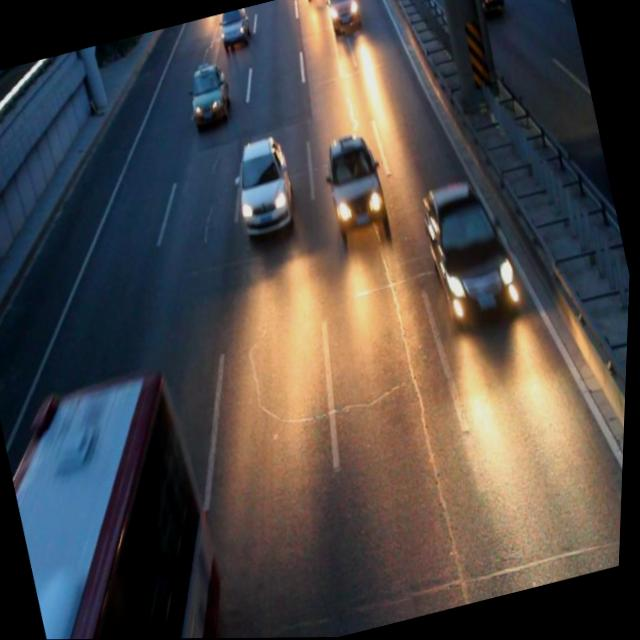car: (415, 175, 525, 325), (318, 134, 393, 238), (226, 135, 303, 236), (185, 65, 234, 123), (319, 0, 362, 32), (215, 8, 252, 44), (450, 0, 503, 18)
van: (0, 367, 248, 640)
